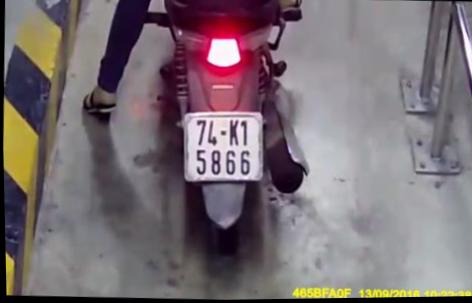LP: (180, 108, 266, 184)
